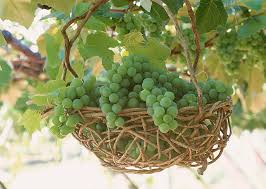grapes: (134, 58, 232, 130), (100, 55, 149, 131), (51, 72, 97, 135)
